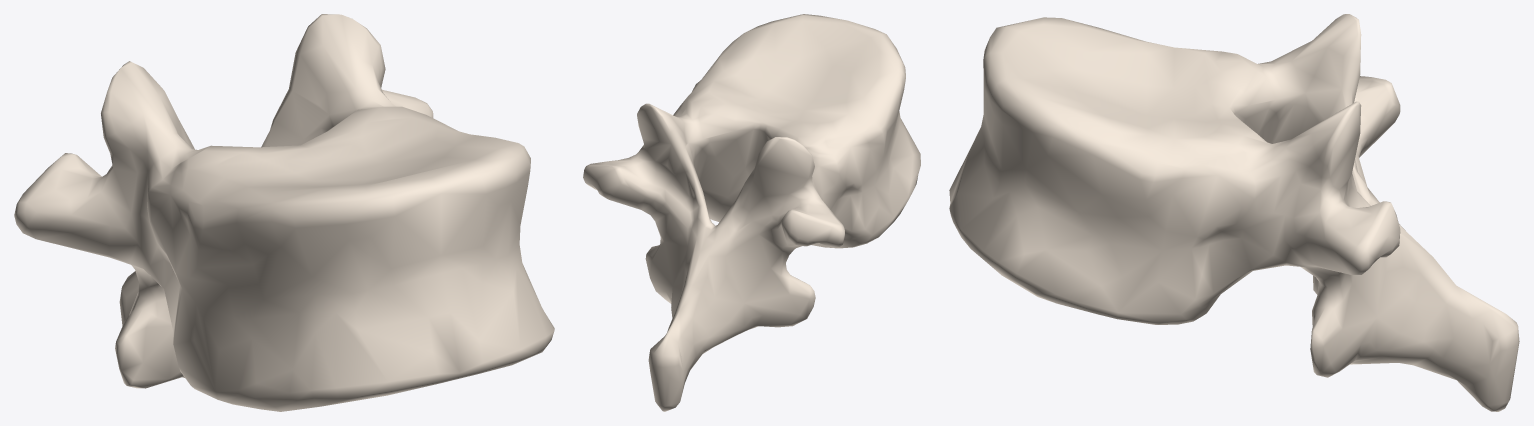
3 views of the same model, side by side, from view 1: azimuth 30°, elevation 25°; view 2: azimuth 150°, elevation 25°; view 3: azimuth 270°, elevation 25° (orthographic). The views are drawn at different scales.
Parts seen in each view (by area): view 1: Thoracic vertebrae (T11); view 2: Thoracic vertebrae (T11); view 3: Thoracic vertebrae (T11).
Boxes of the visible parts, box(x1,y1,x2,y2) form: Thoracic vertebrae (T11): box(14, 14, 554, 411); Thoracic vertebrae (T11): box(583, 14, 920, 411); Thoracic vertebrae (T11): box(949, 14, 1519, 411).
Size of the model in its own units: 0.0574 by 0.0545 by 0.0784.
